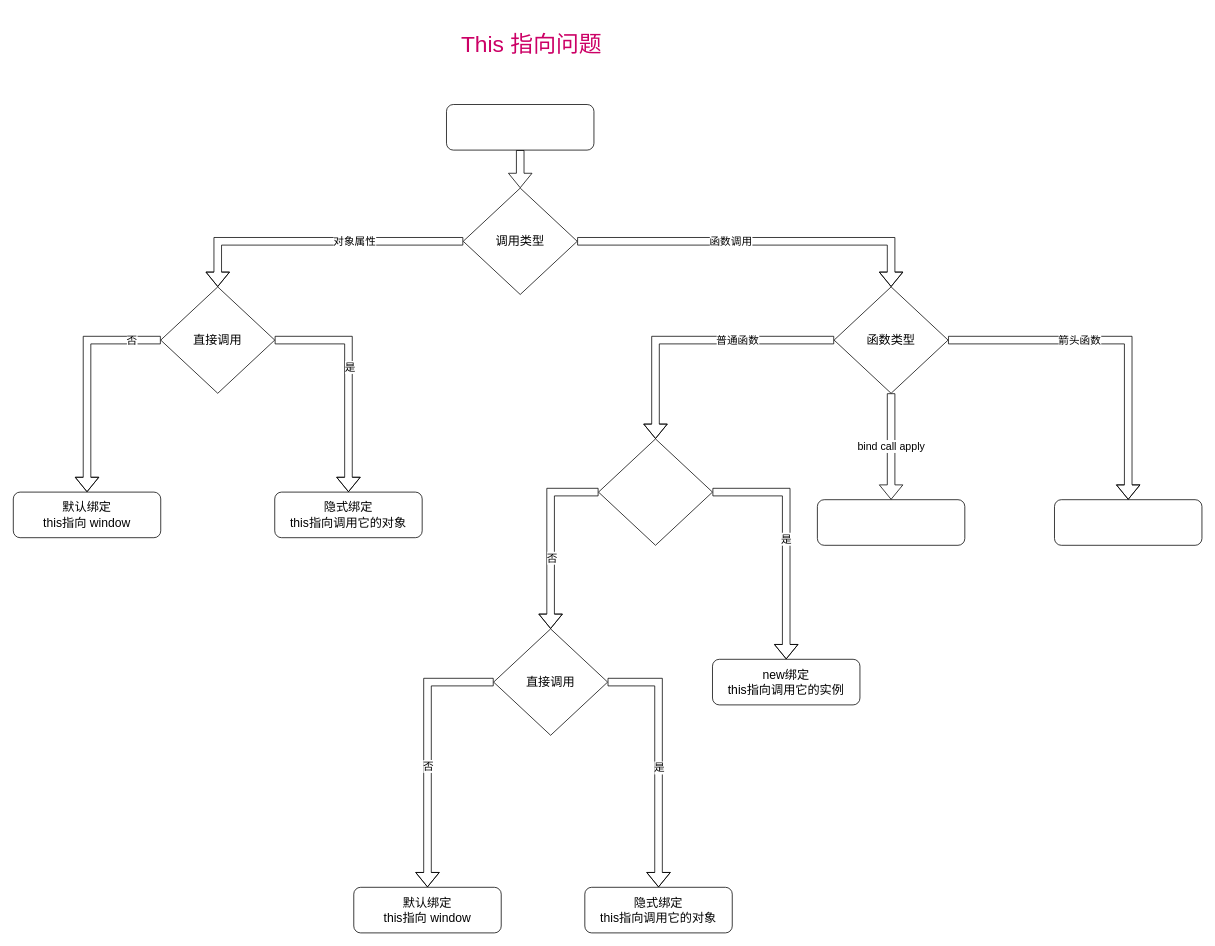
This 1215x946 diagram has some shape labels left out. Here are the shapes that lost their labels. From the top down, the box of each, then its label:
(446, 104, 594, 150): 判断 this 指向
(598, 438, 712, 545): 是否是new实例调用
(817, 499, 965, 545): 显示绑定 this指向调用它的对象
(1054, 499, 1202, 545): this指向当前作用域
